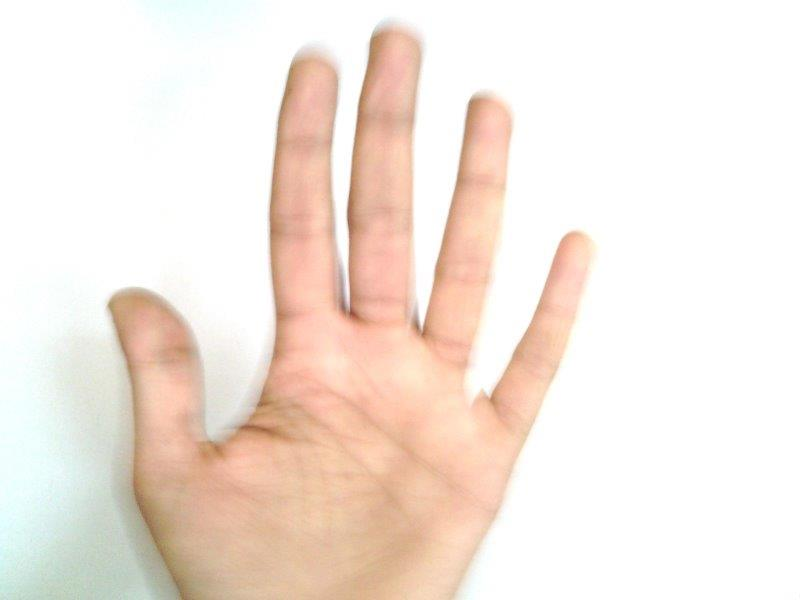hand: (108, 29, 591, 597)
